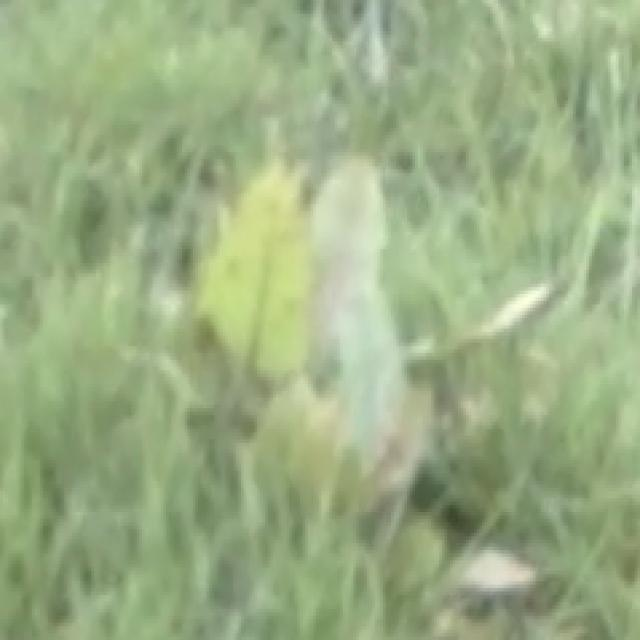organic waste: (77, 62, 508, 516)
